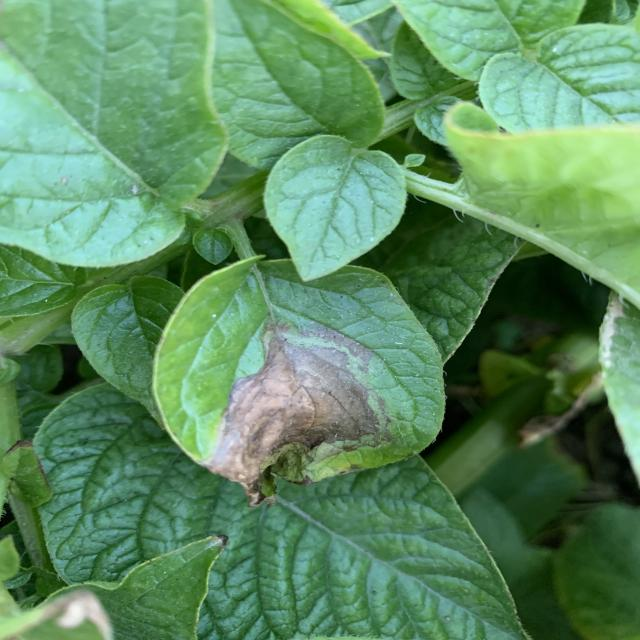lateblight: (205, 325, 380, 505)
